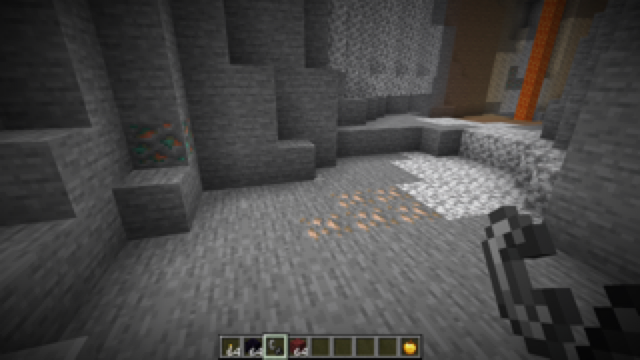copper: (120, 117, 197, 169)
iron: (297, 183, 445, 243)
